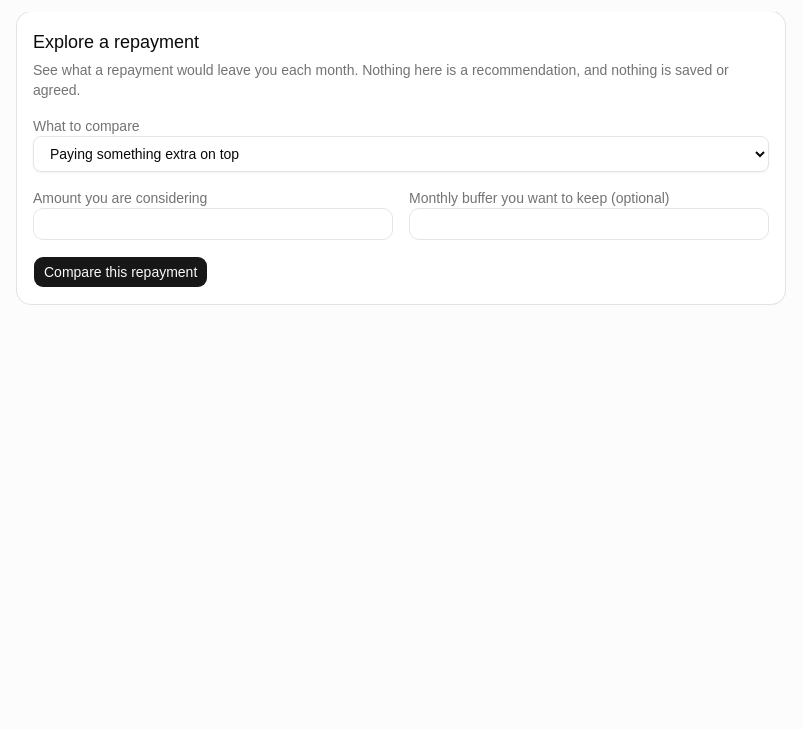
Scenario: RepaymentExplorer › clears an earlier comparison when the mode changes
In the field labelled "Amount you are considering": (213,224) 33,208 -> 393,240, type "100.00"
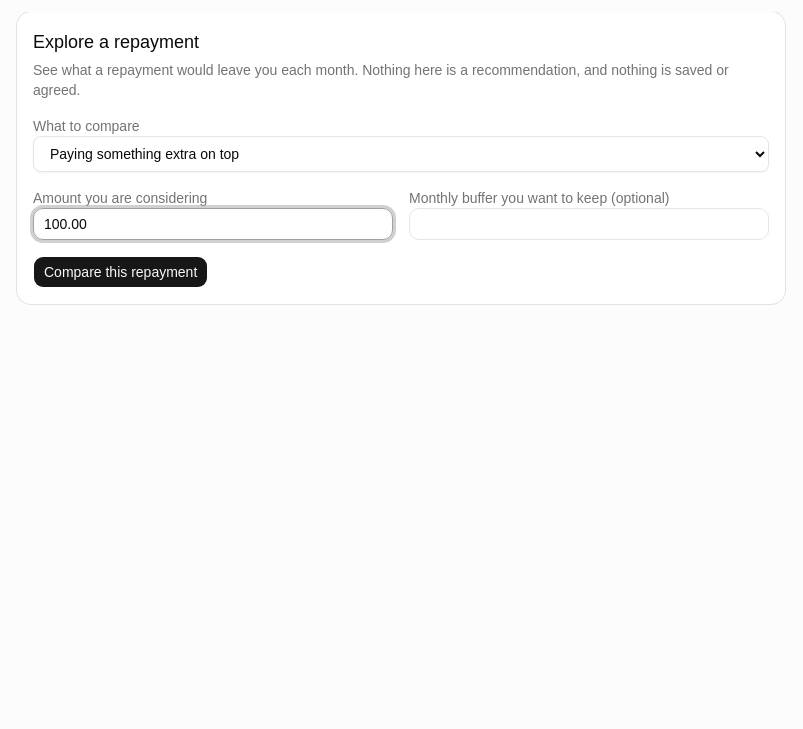
Click the button "Compare this repayment": (121,272) 33,256 -> 208,288
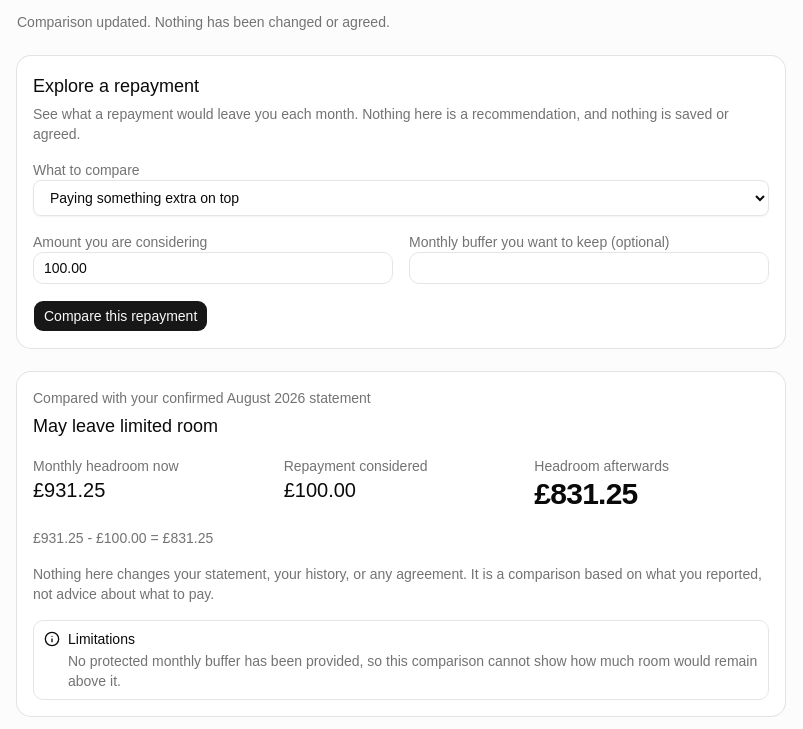
Expected: the text "£831.25" is shown, 534,477 -> 638,510
Select "Changing a repayment I already make" in the dropdown labelled "What to compare": (401,198) 33,180 -> 769,216
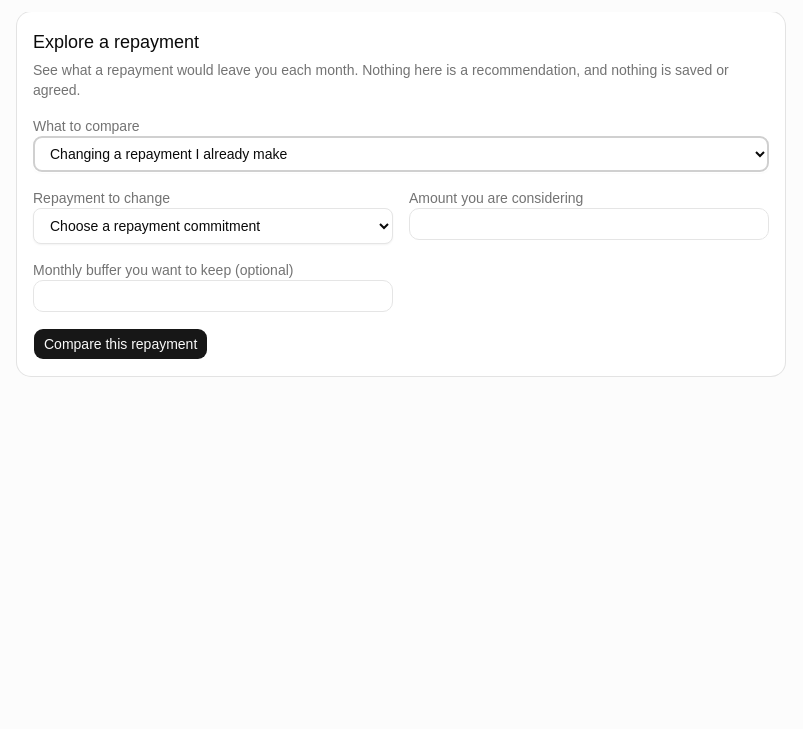
Expected: the text "£831.25" is gone
Expected: the field labelled "Amount you are considering" is empty, 409,208 -> 769,240
